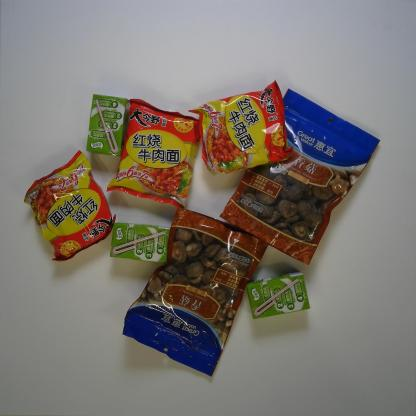Dried Food: (219, 87, 382, 266), (122, 206, 269, 378)
Instant Noodles: (105, 98, 200, 209), (23, 150, 117, 262), (187, 79, 294, 177)
Milk: (245, 271, 311, 320), (86, 93, 129, 156), (109, 221, 171, 264)
